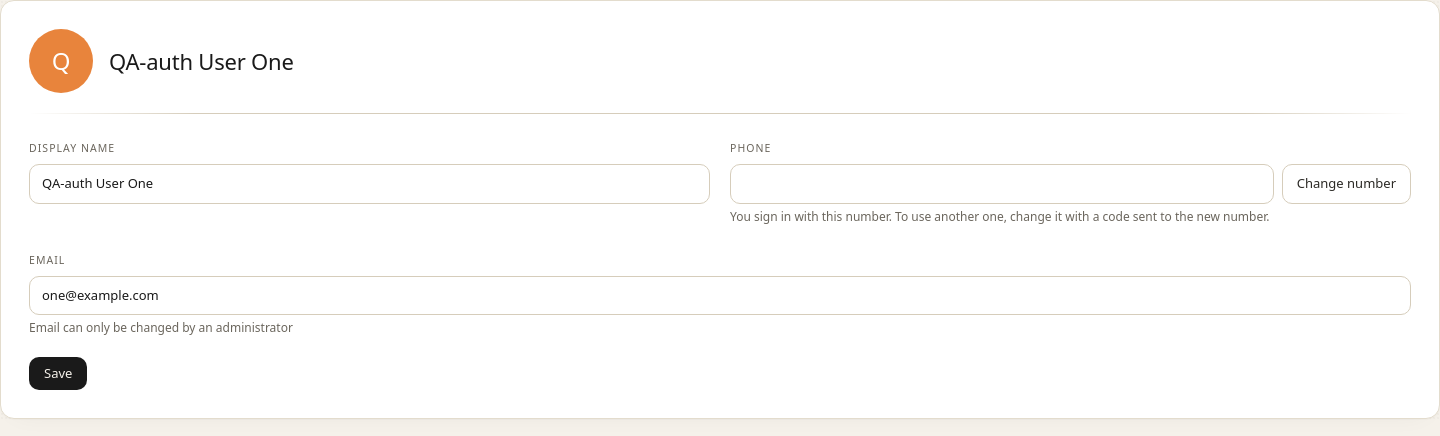
Test: ProfileForm header after save › shows the saved display name at once
Expected: the heading "QA-auth User One" is shown, [109,44,294,78]
Replace the text in the field labelled "Display name" with "Renamed" at (370, 184), box [29,164,710,204]
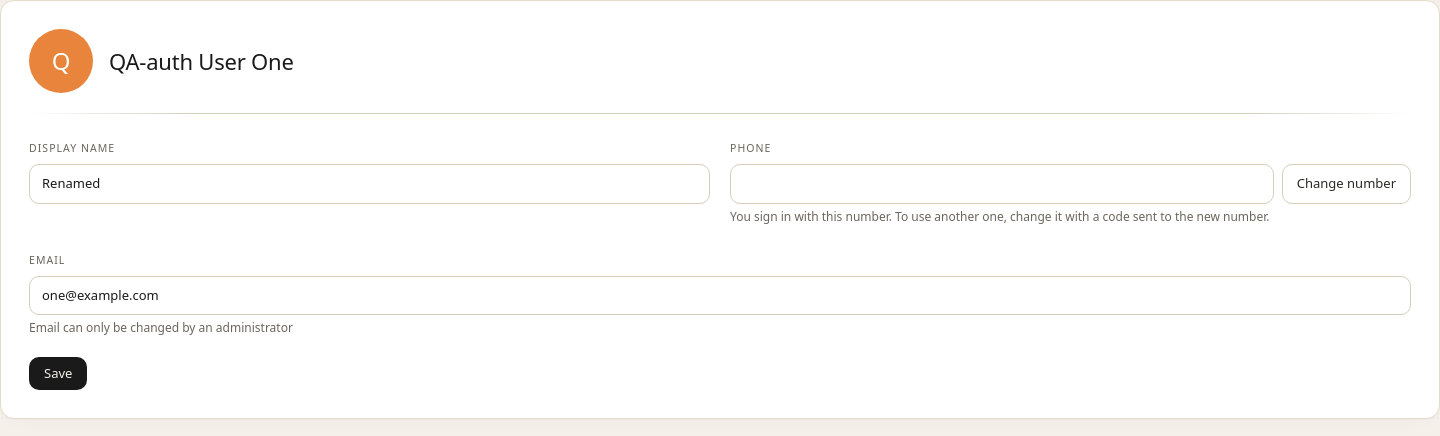
Click the button "Save".
click(58, 374)  # box [29,357,87,390]
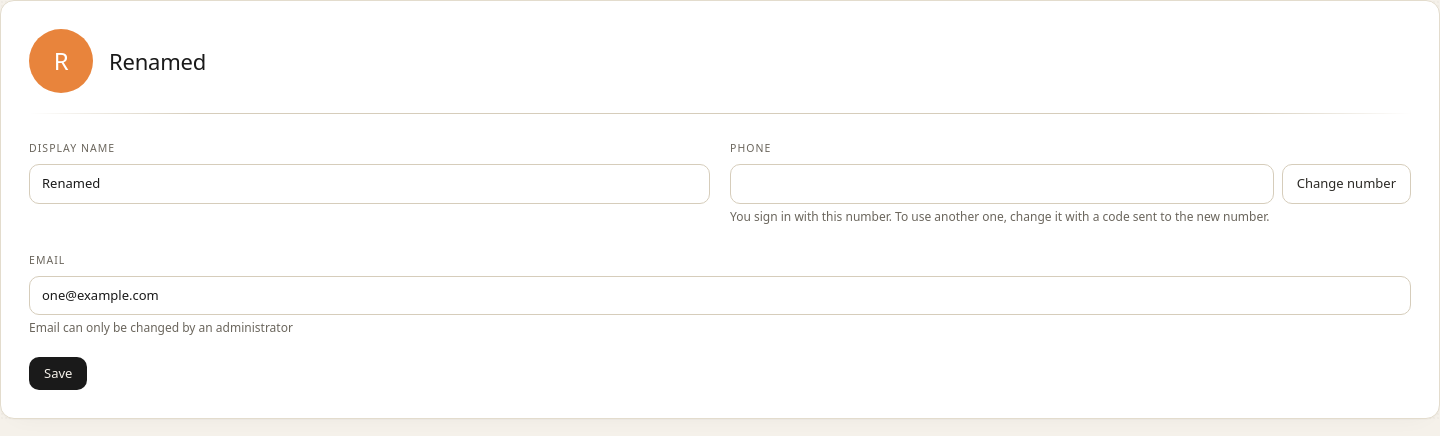
Now the heading "Renamed" is shown, box [109,44,206,78]
